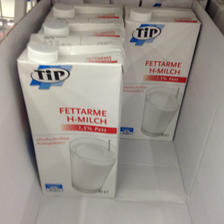milk: (18, 33, 122, 199), (125, 6, 204, 150)
